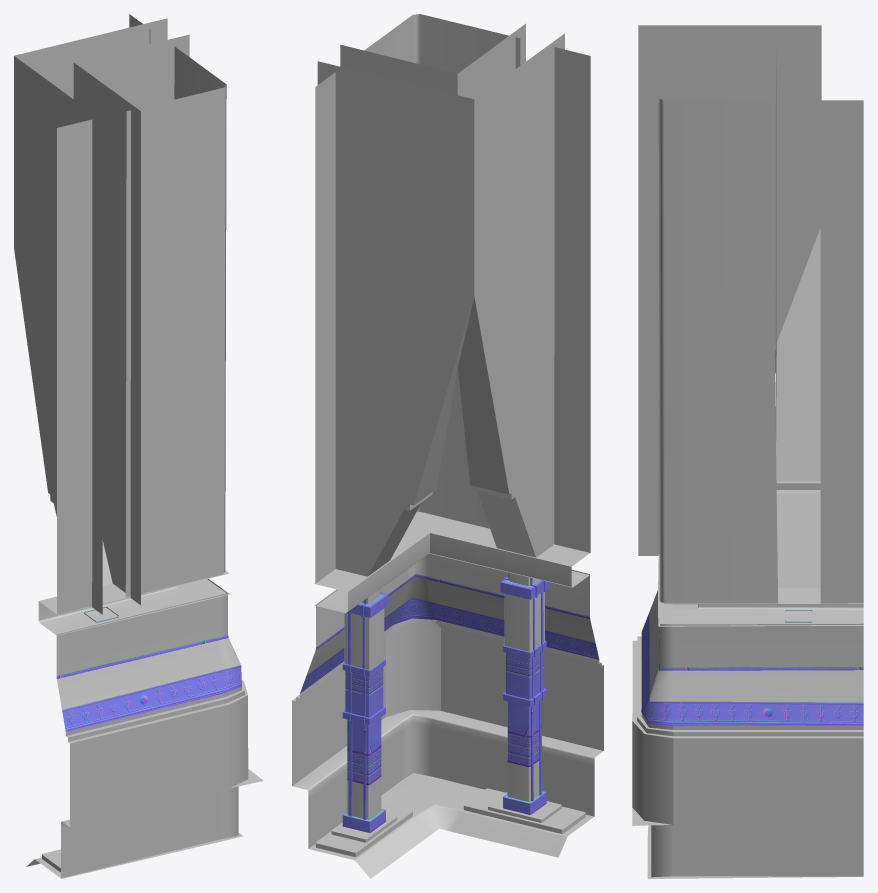
Rendered from TallWallCorner.fbx.
The picture shows the model from 3 angles, left to right: view 1: azimuth 30°, elevation 25°; view 2: azimuth 150°, elevation 25°; view 3: azimuth 270°, elevation 25°; orthographic projection. The views are drawn at different scales.
Visible parts, largest first — view 1: Wall; view 2: Wall, Pillar, Pillar2; view 3: Wall.
Part boxes in pixels (left/top/right/bottom): Wall: left=14, top=14, right=263, bottom=878; Wall: left=292, top=14, right=603, bottom=878; Pillar: left=463, top=572, right=585, bottom=833; Pillar2: left=315, top=589, right=412, bottom=857; Wall: left=632, top=25, right=863, bottom=878.
Size of the model in its own units: 317 by 1201 by 317.
